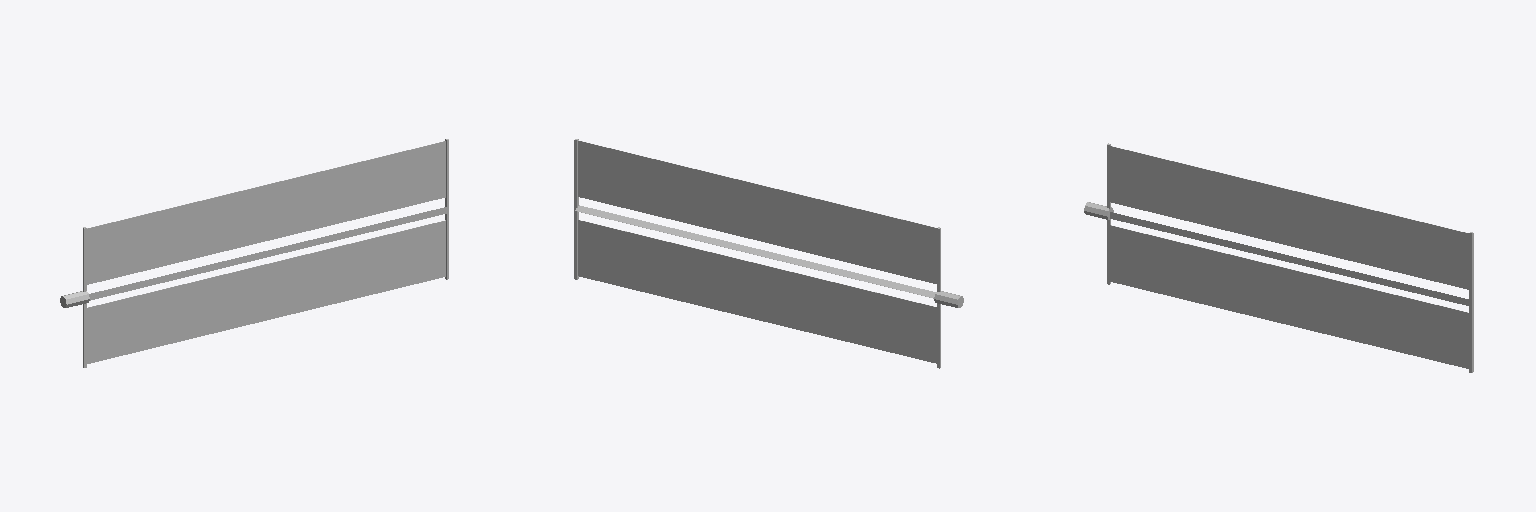
The model's file is ISS_SolarPanel.obj.
3 views of the same model, side by side, from view 1: azimuth 30°, elevation 25°; view 2: azimuth 150°, elevation 25°; view 3: azimuth 330°, elevation 25° (orthographic).
Parts seen in each view (by area): view 1: ISS_SolarPanel; view 2: ISS_SolarPanel; view 3: ISS_SolarPanel.
Part boxes in pixels (left/top/right/bottom): ISS_SolarPanel: left=60, top=139, right=448, bottom=367; ISS_SolarPanel: left=574, top=139, right=963, bottom=368; ISS_SolarPanel: left=1084, top=143, right=1473, bottom=372.
Bounding box in the file's own units: 35.51 × 12.3 × 1.08.